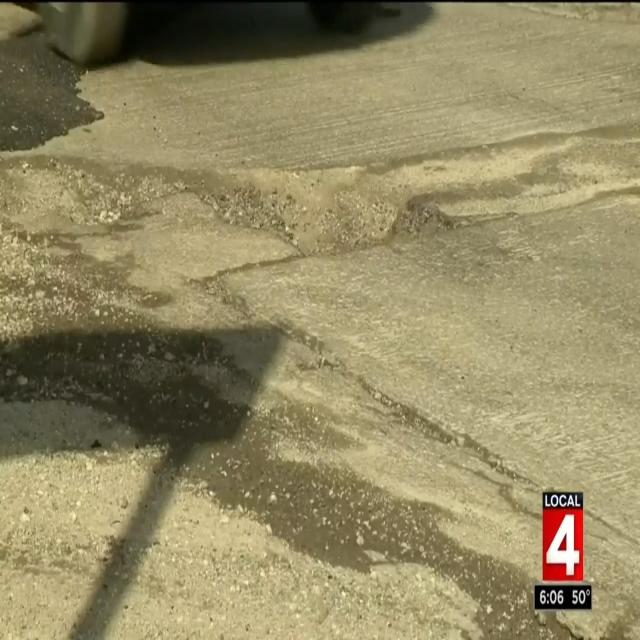Potholes: (172, 125, 640, 255), (62, 164, 171, 225)
pothole: (0, 29, 102, 149)
